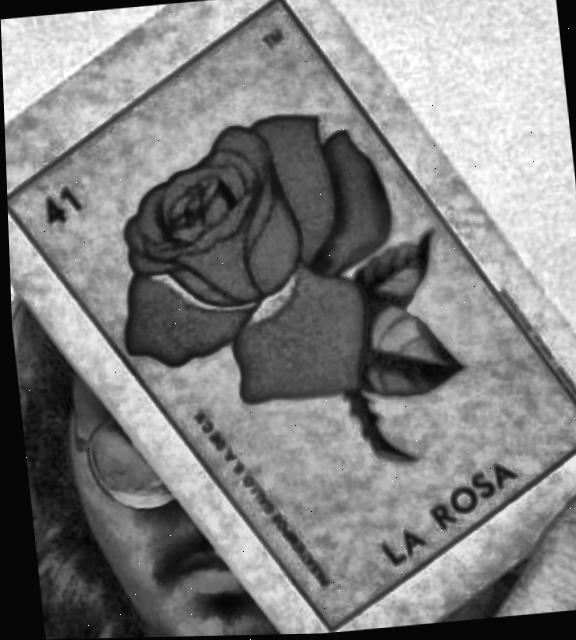La Rosa: (6, 1, 576, 629)
